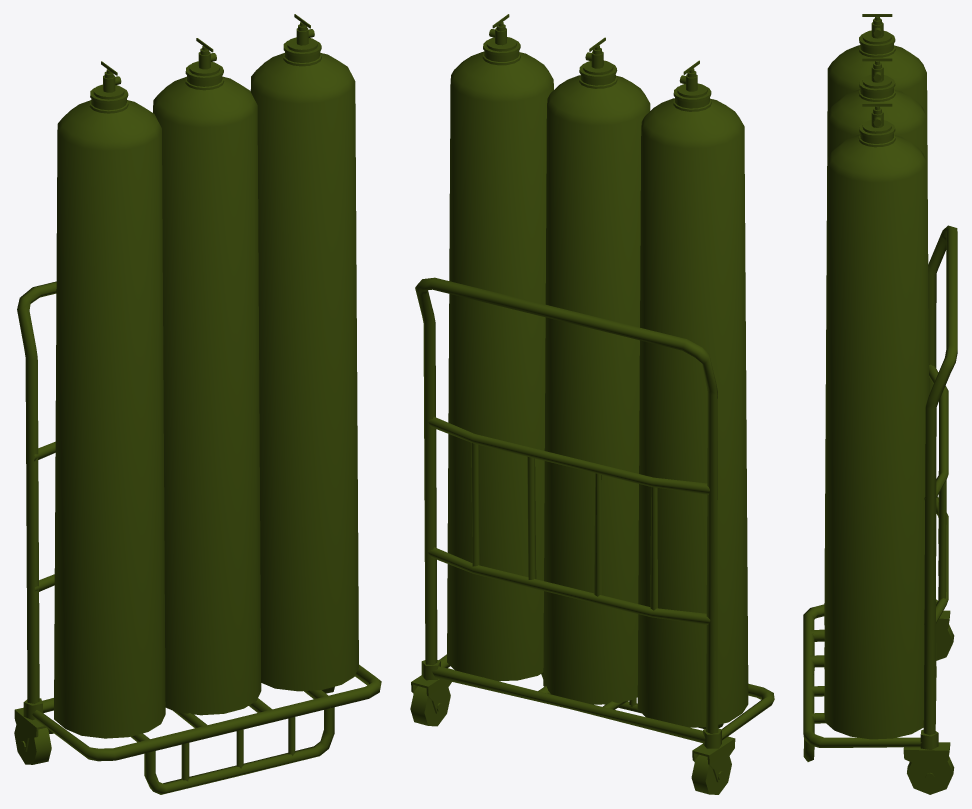
The model's file is Trolley_Cylinder01_M.fbx.
3 views of the same model, side by side, from view 1: azimuth 30°, elevation 25°; view 2: azimuth 150°, elevation 25°; view 3: azimuth 270°, elevation 25° (orthographic). The views are drawn at different scales.
Visible parts, largest first — view 1: Cylinder_L2, Cylinder_L1, Cylinder_L3, Trolleys01.001, Trolleys01_W2; view 2: Cylinder_L2, Cylinder_L1, Cylinder_L3, Trolleys01.001, Trolleys01_W2, Trolleys01_W1; view 3: Cylinder_L1, Trolleys01.001, Cylinder_L3, Cylinder_L2, Trolleys01_W1, Trolleys01_W2.
Part boxes in pixels (x1=…): Cylinder_L2: x1=54, y1=61, x2=165, y2=738; Cylinder_L1: x1=250, y1=14, x2=358, y2=691; Cylinder_L3: x1=153, y1=38, x2=261, y2=715; Trolleys01.001: x1=17, y1=281, x2=381, y2=794; Trolleys01_W2: x1=14, y1=698, x2=53, y2=764; Cylinder_L2: x1=637, y1=60, x2=748, y2=727; Cylinder_L1: x1=447, y1=14, x2=553, y2=681; Cylinder_L3: x1=543, y1=37, x2=650, y2=704; Trolleys01.001: x1=415, y1=277, x2=774, y2=743; Trolleys01_W2: x1=691, y1=728, x2=735, y2=794; Trolleys01_W1: x1=410, y1=660, x2=453, y2=726; Cylinder_L1: x1=824, y1=103, x2=928, y2=739; Trolleys01.001: x1=803, y1=225, x2=957, y2=761; Cylinder_L3: x1=824, y1=58, x2=928, y2=668; Cylinder_L2: x1=824, y1=14, x2=928, y2=624; Trolleys01_W1: x1=903, y1=729, x2=954, y2=794; Trolleys01_W2: x1=936, y1=599, x2=954, y2=660.
Bounding box in the file's own units: 0.2873 × 0.6321 × 0.1325.
